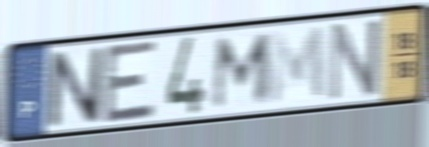4: (164, 32, 210, 119)
E: (101, 36, 160, 127)
M: (210, 31, 276, 112), (268, 23, 328, 109)
N: (325, 16, 384, 106), (46, 44, 105, 131)
